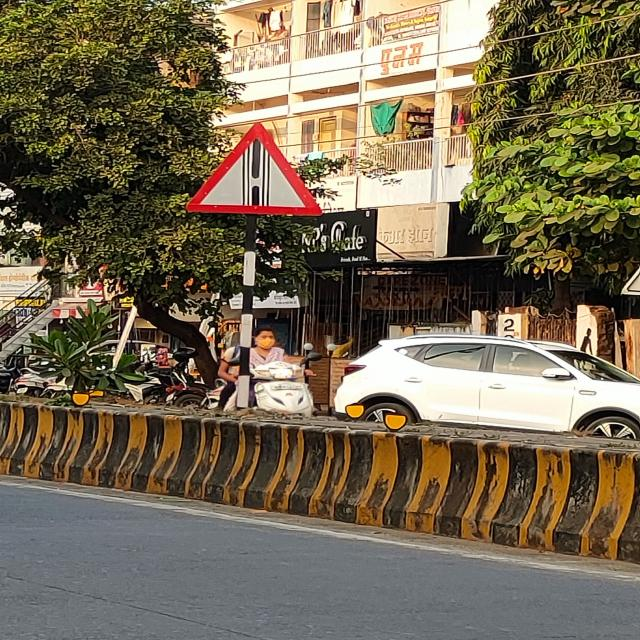ferry: (176, 122, 326, 216)
